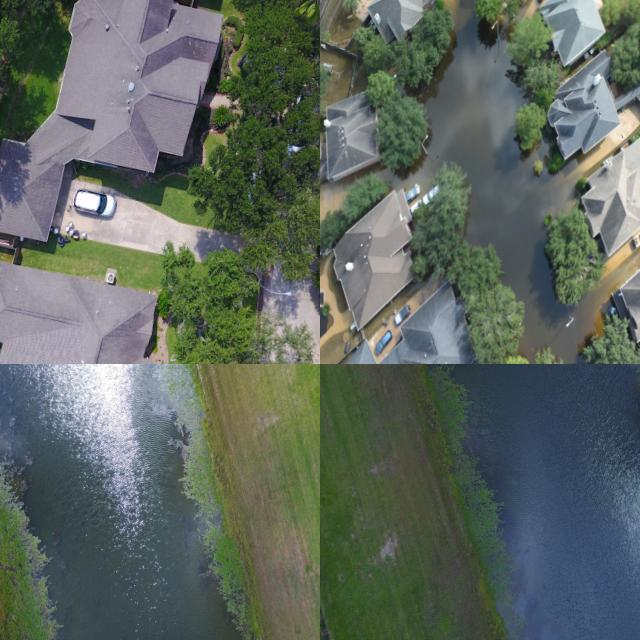fire: (0, 364, 240, 640), (415, 0, 626, 283), (453, 364, 640, 640)
